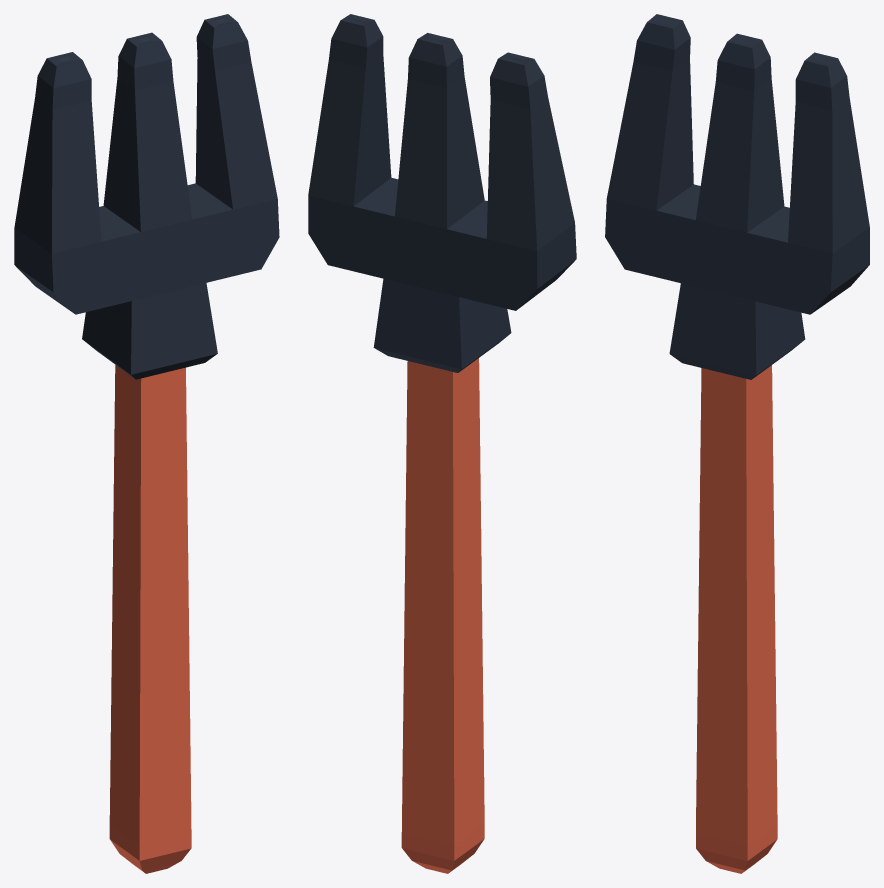
The model's file is tool_gardening_fork.obj.
3 views of the same model, side by side, from view 1: azimuth 30°, elevation 25°; view 2: azimuth 150°, elevation 25°; view 3: azimuth 330°, elevation 25° (orthographic).
Visible parts, largest first — view 1: Cube.007_Cube.033; view 2: Cube.007_Cube.033; view 3: Cube.007_Cube.033.
Part boxes in pixels (x1=…): Cube.007_Cube.033: x1=14, y1=14, x2=279, y2=873; Cube.007_Cube.033: x1=308, y1=14, x2=576, y2=873; Cube.007_Cube.033: x1=605, y1=14, x2=869, y2=873.
Size of the model in its own units: 0.781 by 2.72 by 0.2928.
